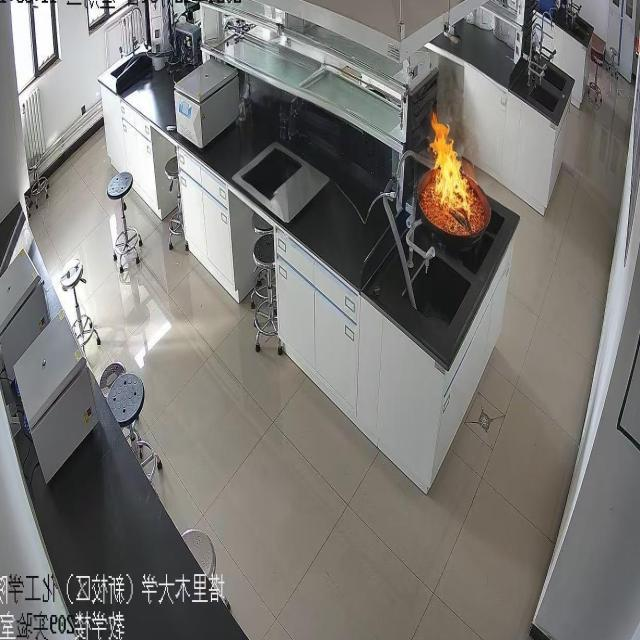smoke: (426, 108, 484, 235)
